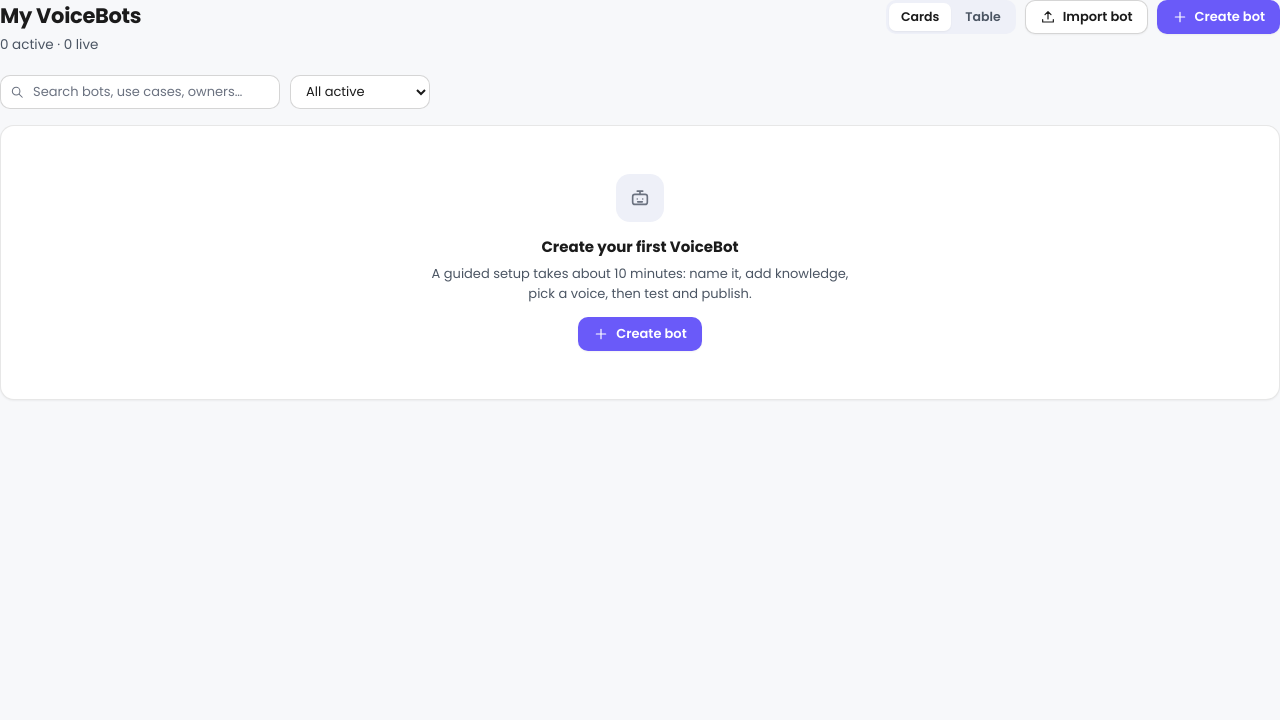
Test: Bots — create language defaults › never preselects an inactive former default
The image size is (1280, 720).
Click the button "Create bot" in the row of "My VoiceBots".
click(1218, 17)  # box [1157,0,1279,34]
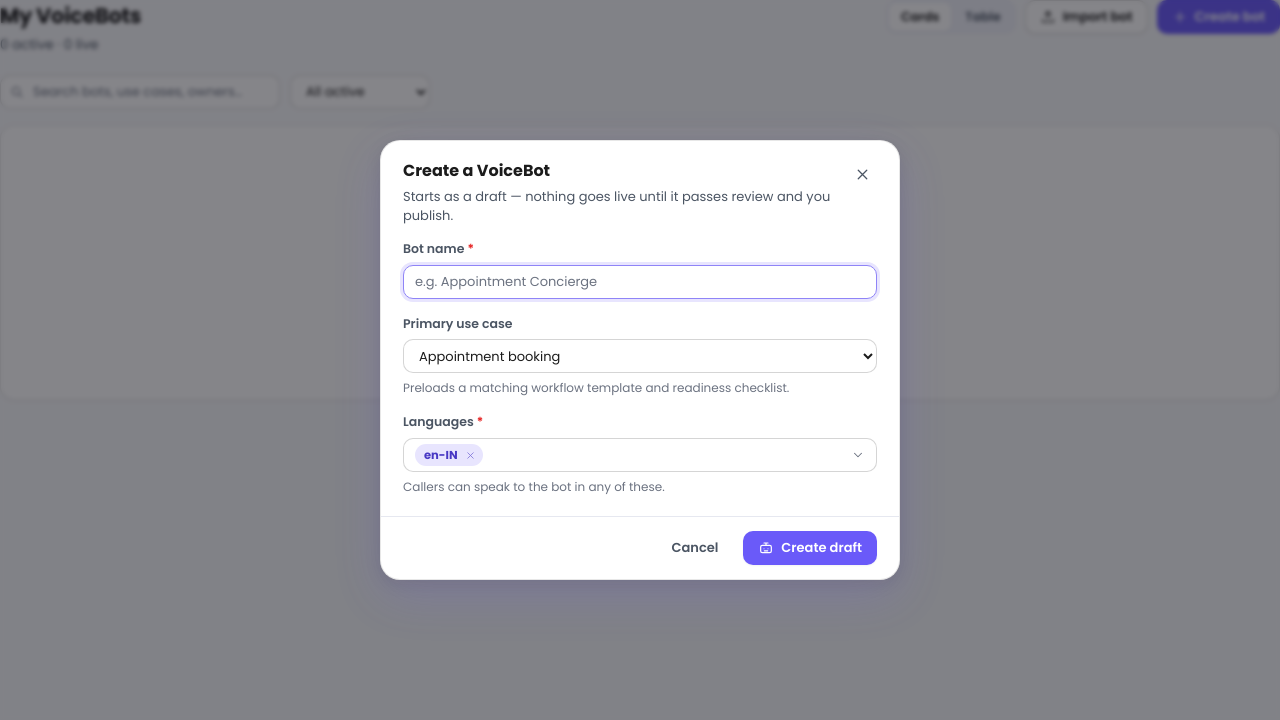
Expected: the button named "Remove English (India)" is shown, [462,448,478,463]
